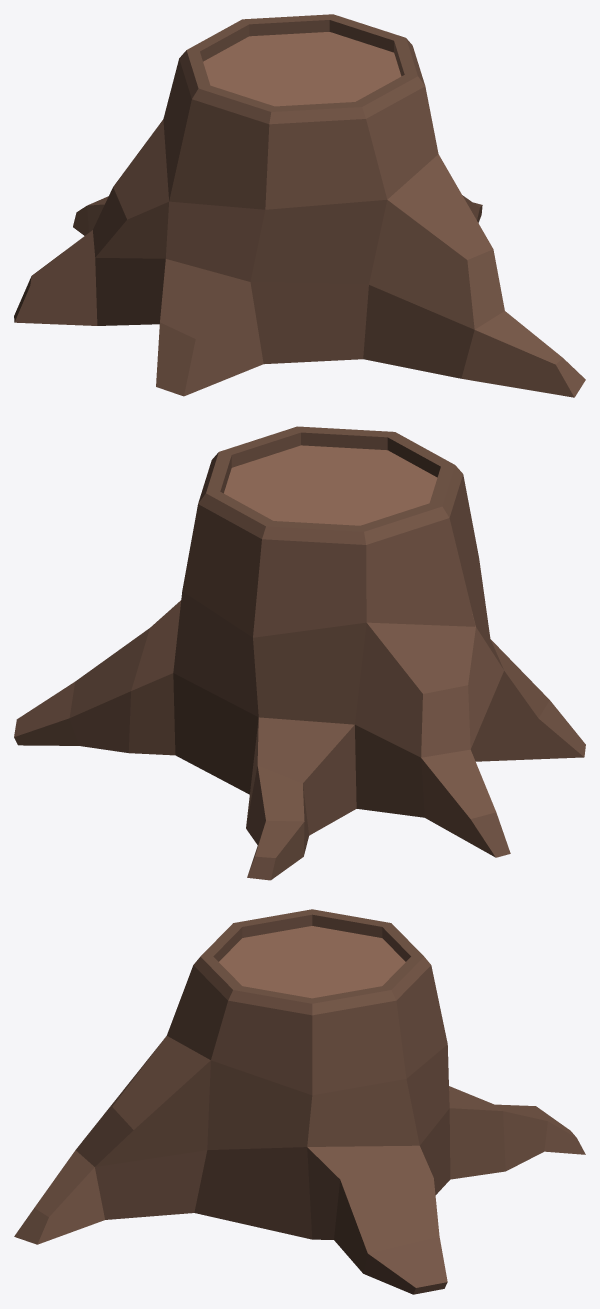
The model's file is treeStump.gltf.
3 views of the same model, one above another, from view 1: azimuth 30°, elevation 25°; view 2: azimuth 150°, elevation 25°; view 3: azimuth 270°, elevation 25° (orthographic). The views are drawn at different scales.
Parts seen in each view (by area): view 1: Cylinder; view 2: Cylinder; view 3: Cylinder.
Boxes of the visible parts, bbox=[...] form: Cylinder: bbox=[14, 14, 585, 397]; Cylinder: bbox=[14, 426, 585, 880]; Cylinder: bbox=[14, 909, 585, 1294].
Bounding box in the file's own units: 4.2 × 2.15 × 4.81.
Materials: 1 (1 with a texture image).
